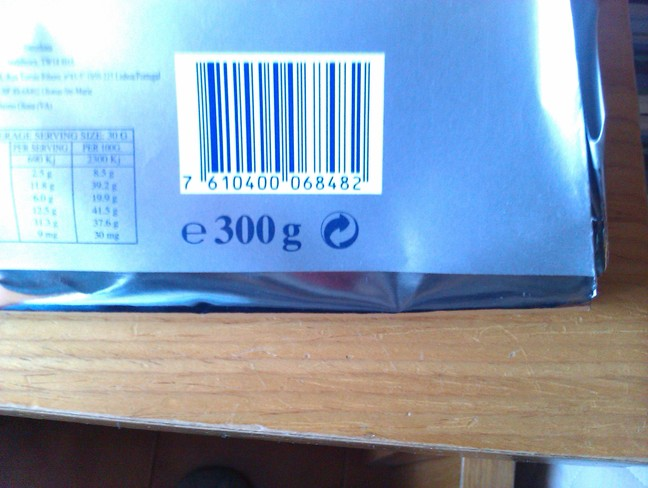barcode: (175, 52, 373, 195)
